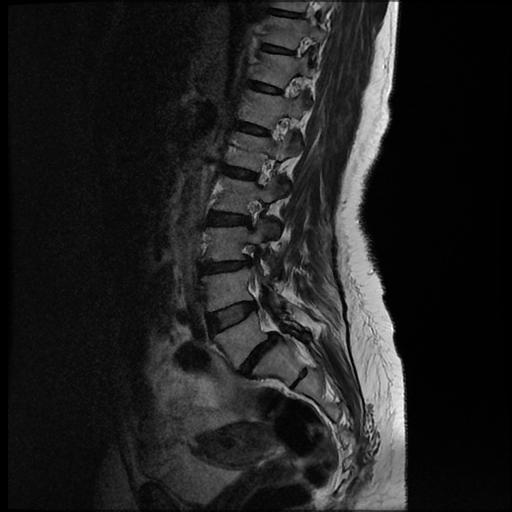RFS0: (245, 150, 283, 194), (233, 195, 269, 239)
